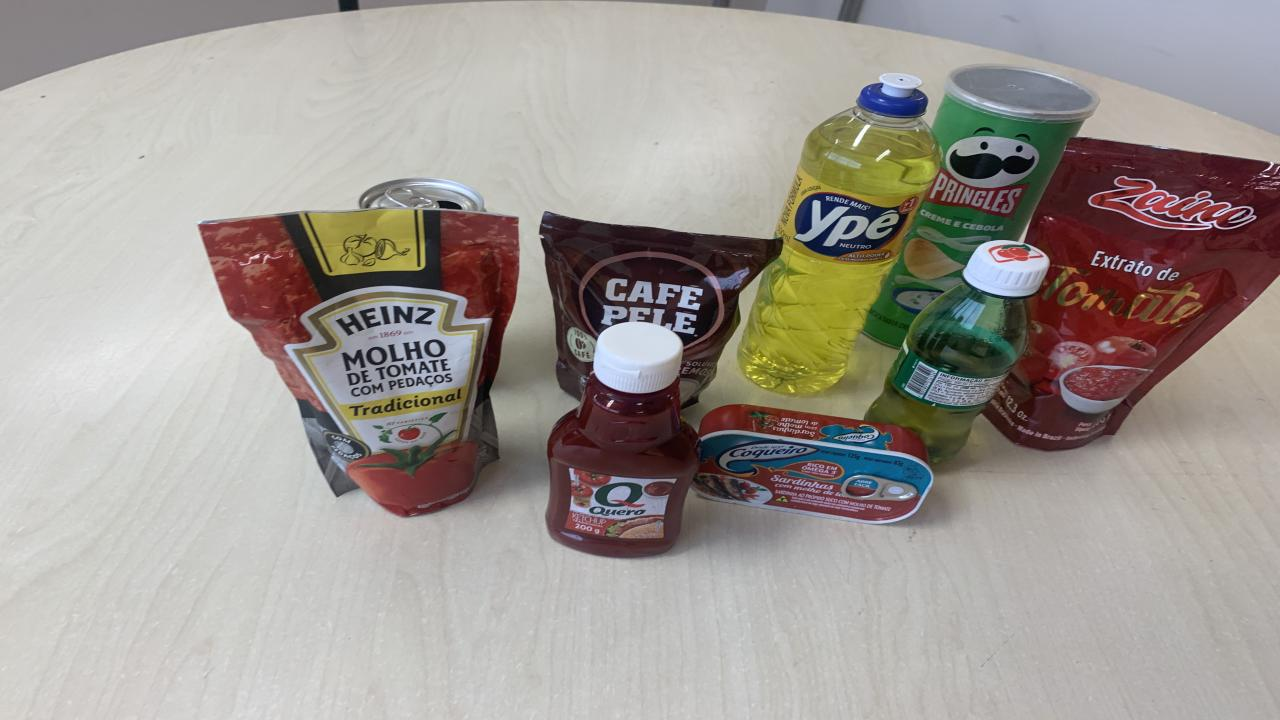Coffee-Pantry_Items: (540, 212, 782, 407)
Detergent-Cleanup_Items: (738, 73, 940, 394)
Guarana-Drinks: (902, 283, 1030, 394), (865, 356, 988, 463)
Ketchup-Pantry_Items: (545, 322, 698, 557)
Pringles-Snacks: (865, 64, 1100, 347)
Tea-Drinks: (358, 178, 485, 212)
Tomato_Sauce-Pantry_Items: (200, 208, 518, 516), (985, 137, 1280, 450)
Tuna_Can-Pantry_Items: (692, 405, 932, 523)
